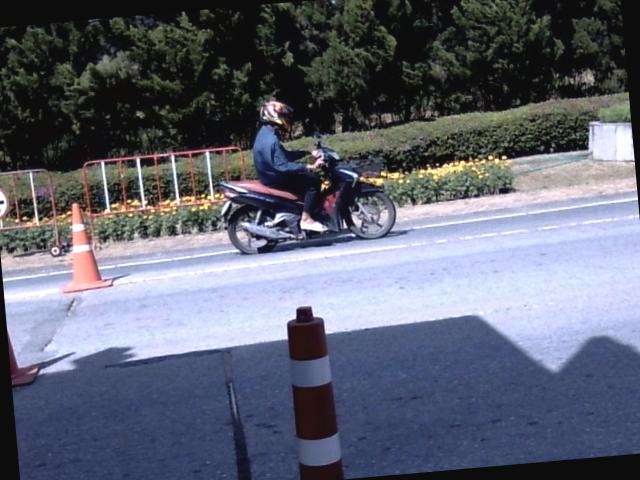helmet: (259, 97, 292, 129)
motor: (218, 140, 394, 253)
person: (252, 100, 324, 230)
